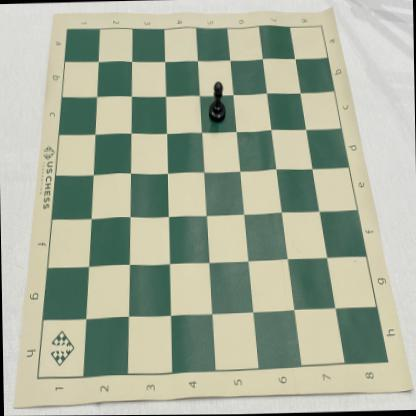black-pawn: (207, 81, 226, 123)
